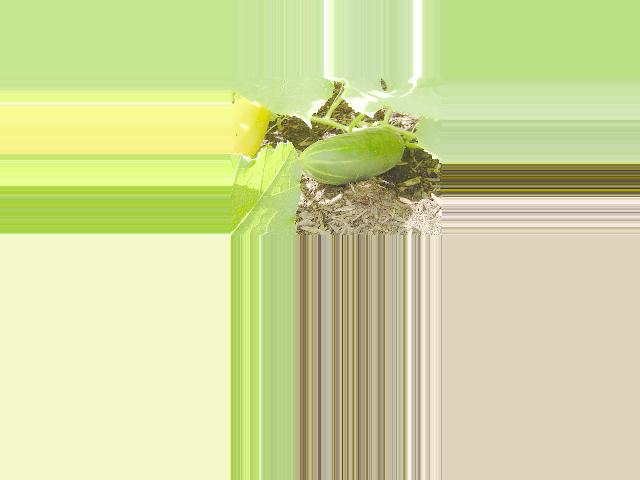cucumber: (299, 127, 405, 185)
